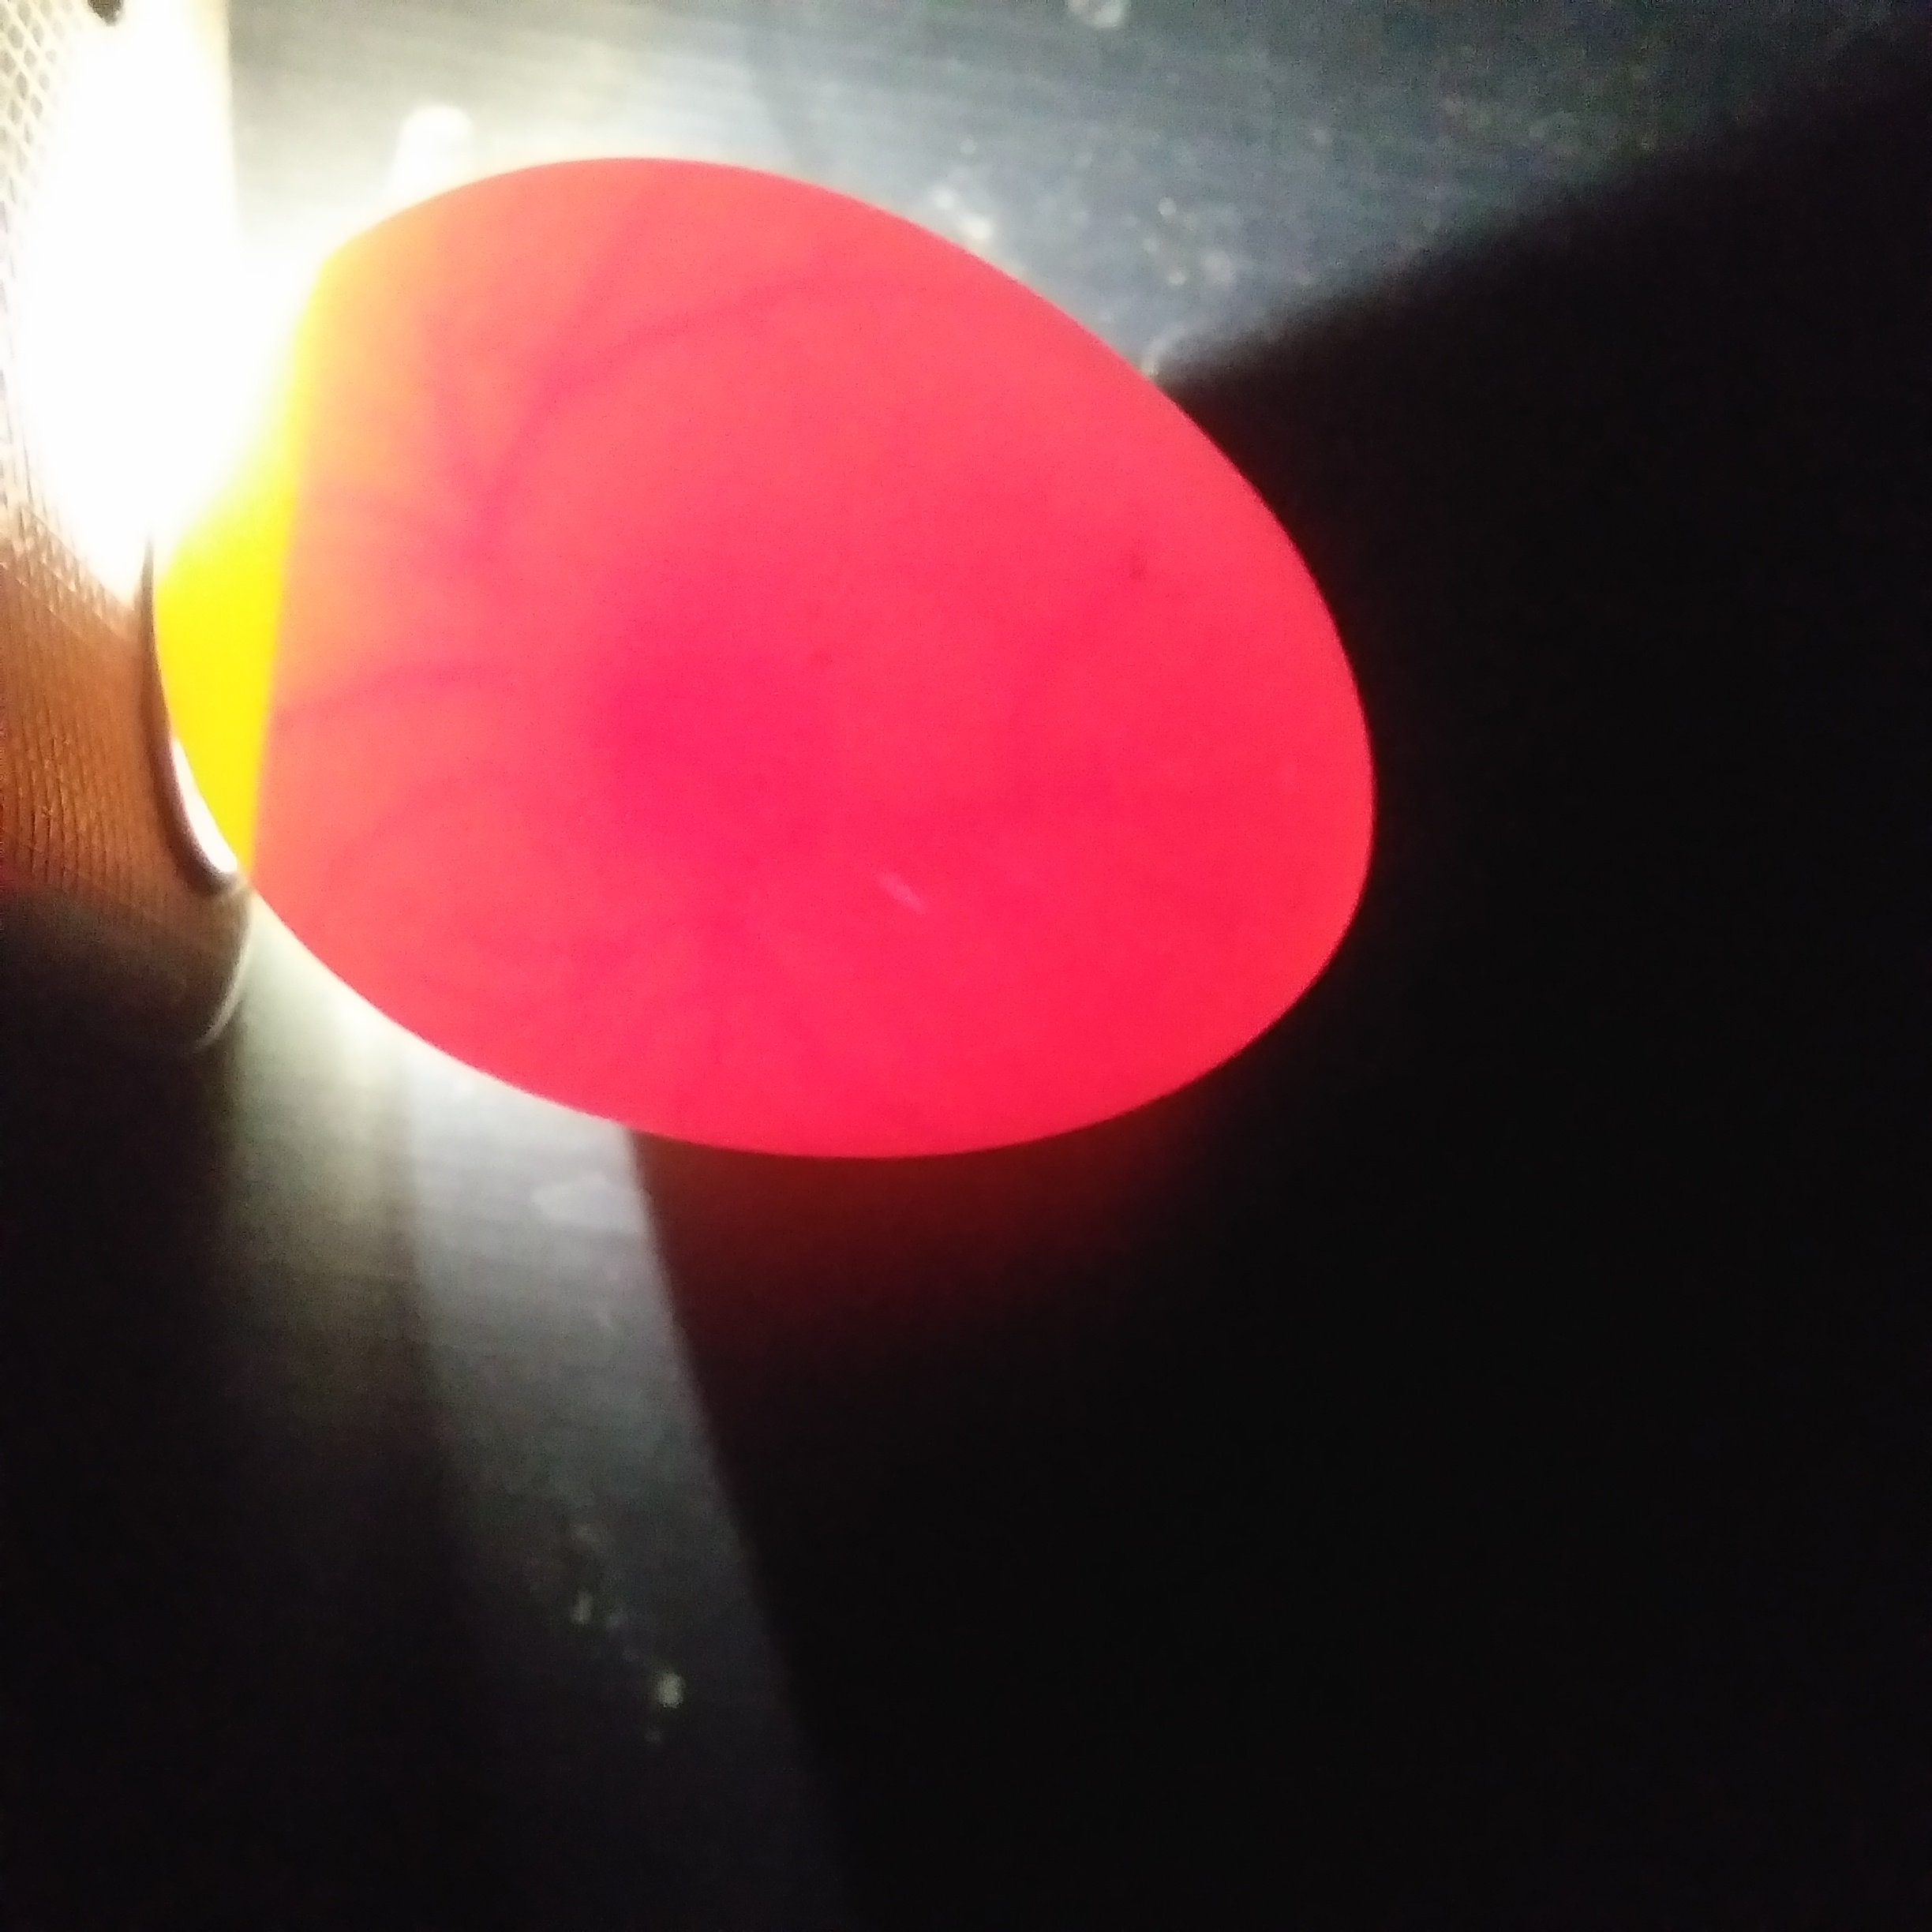bloodcell: (310, 832, 1214, 1016), (303, 313, 586, 770)
